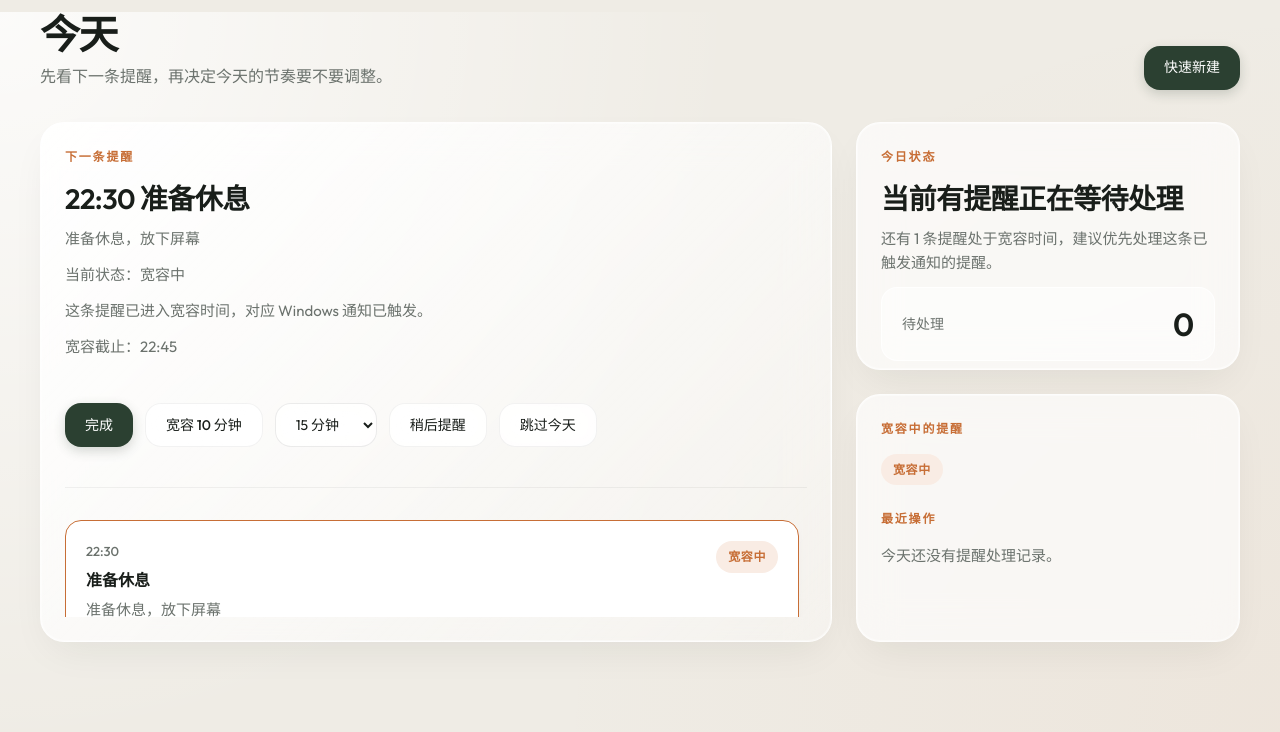
it: TodayPage › updates status when marking today reminder as completed
Check: the text "22:30 准备休息" is shown, box [65,181,250,216]
Step 1. Click the button "完成" → (99, 425), box [65,403,133,447]
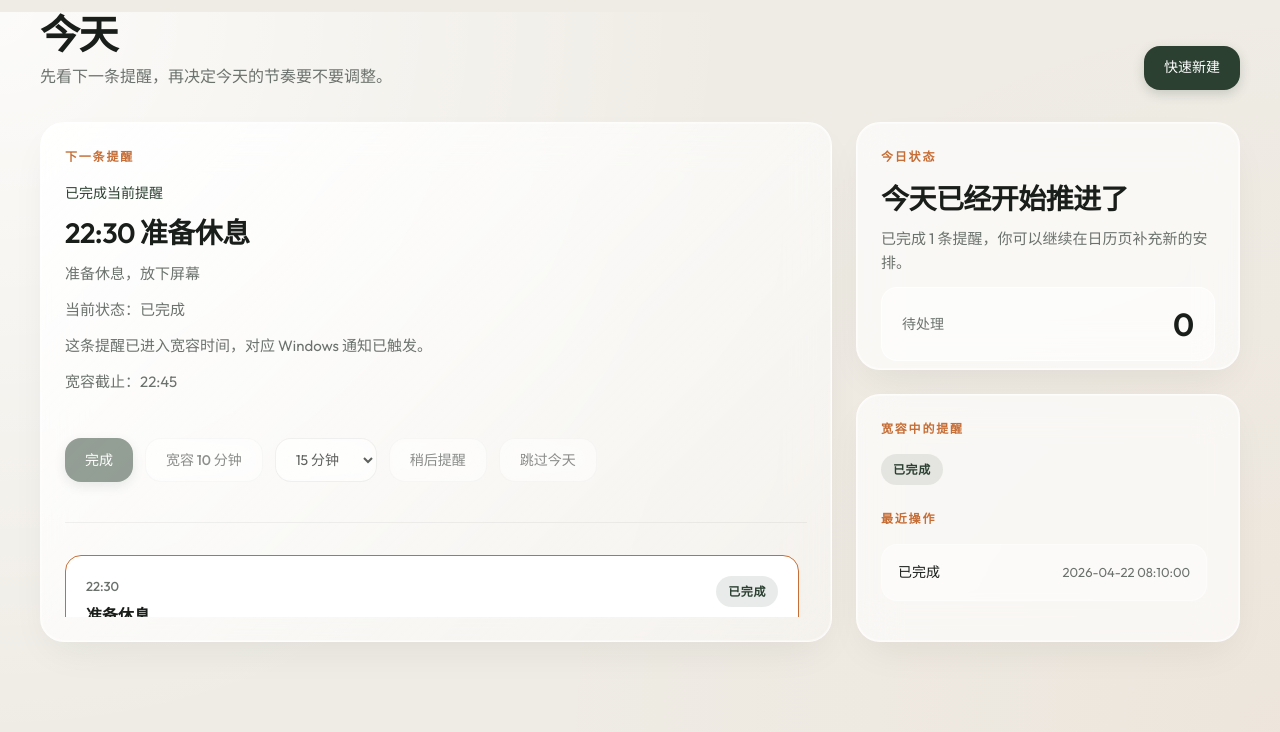
Check: the text "2026-04-22 08:10:00" is shown, box [1063,562,1190,583]
Check: the text "已完成当前提醒" is shown, box [65,184,163,202]
